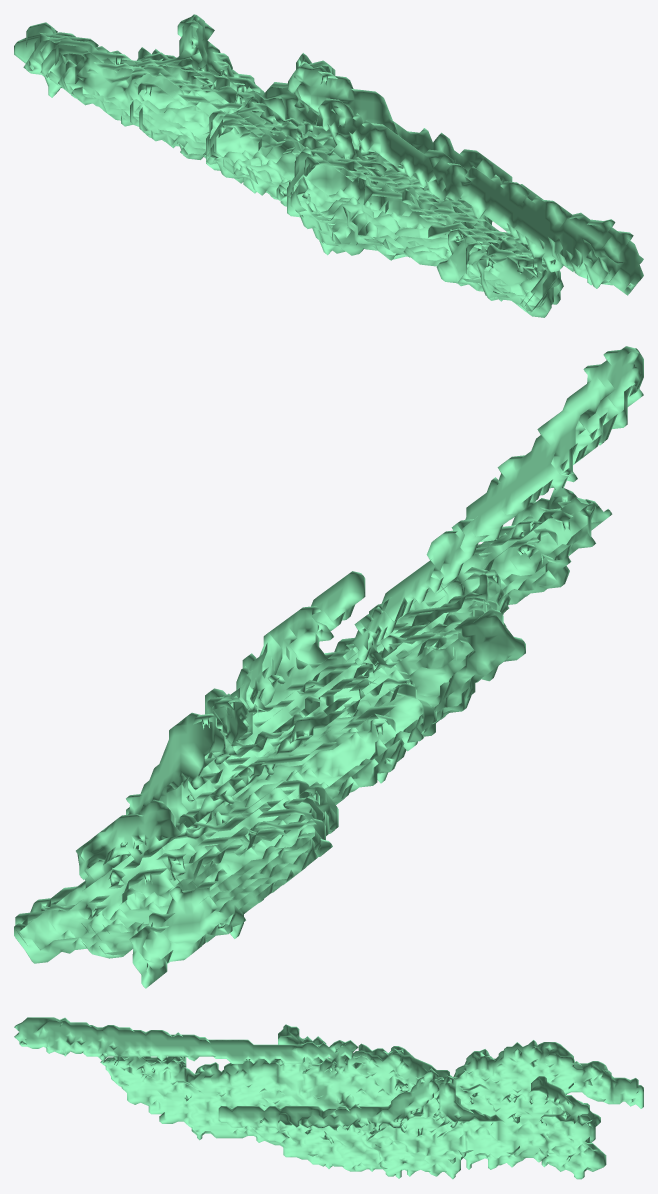
File: osteocyte_48.glb
3 renders of one model, top to bottom at view 1: azimuth 30°, elevation 25°; view 2: azimuth 150°, elevation 25°; view 3: azimuth 270°, elevation 25°, orthographic. The views are drawn at different scales.
Visible parts, largest first — view 1: osteocyte_48; view 2: osteocyte_48; view 3: osteocyte_48.
Part boxes in pixels (bbox=[...]): osteocyte_48: bbox=[14, 14, 643, 317]; osteocyte_48: bbox=[14, 346, 643, 988]; osteocyte_48: bbox=[14, 1017, 643, 1179].
Bounding box in the file's own units: 15.41 × 13.96 × 56.33.
